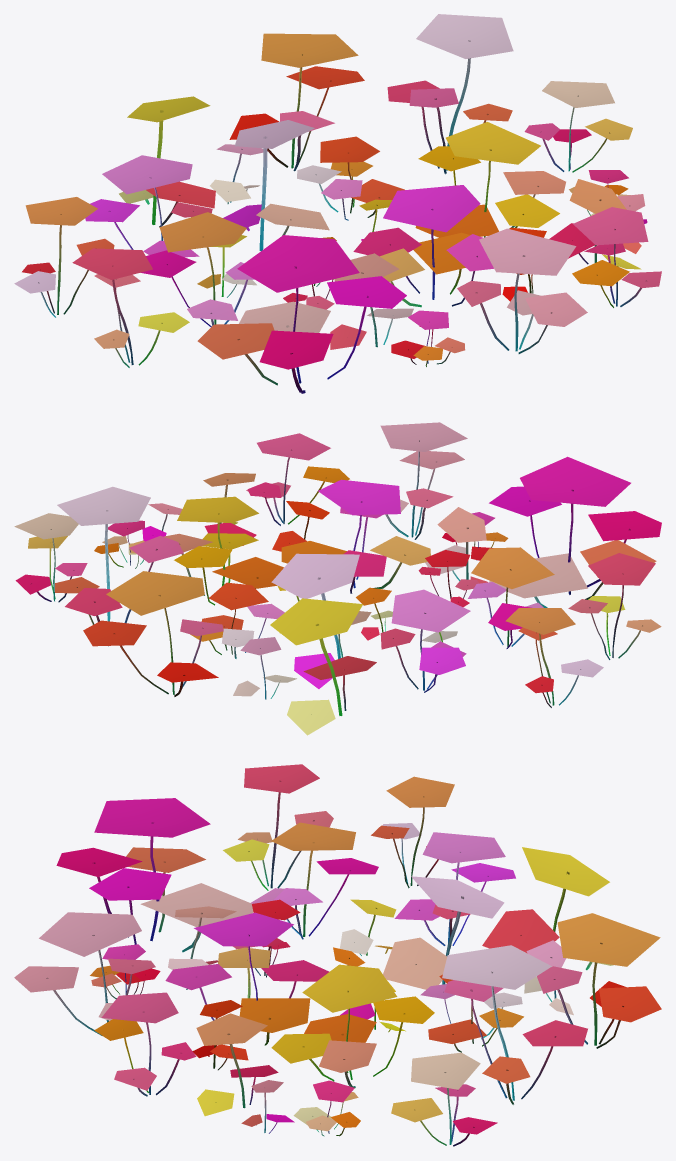
File: Wood_Sorrel_wcwmchzja_Mid_wcwmchzja_VarE_LOD0.fbx
The picture shows the model from 3 angles, top to bottom: view 1: azimuth 30°, elevation 25°; view 2: azimuth 150°, elevation 25°; view 3: azimuth 270°, elevation 25°; orthographic projection. The views are drawn at different scales.
Parts seen in each view (by area): view 1: _7vi6_VarE_LOD1; view 2: _7vi6_VarE_LOD1; view 3: _7vi6_VarE_LOD1.
Part boxes in pixels (x1,y1,x2,y2): _7vi6_VarE_LOD1: (14,14,661,393); _7vi6_VarE_LOD1: (14,422,661,735); _7vi6_VarE_LOD1: (14,764,661,1146).
Size of the model in its own units: 35.92 by 8.14 by 32.5.
